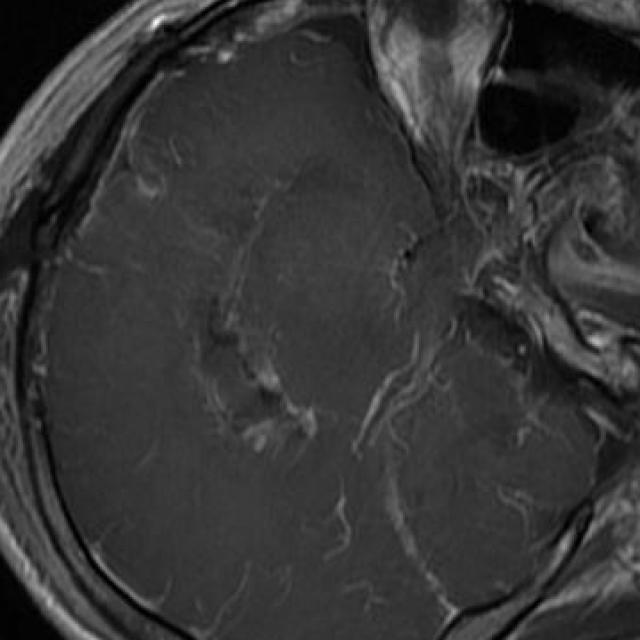glioma: (198, 298, 314, 453)
